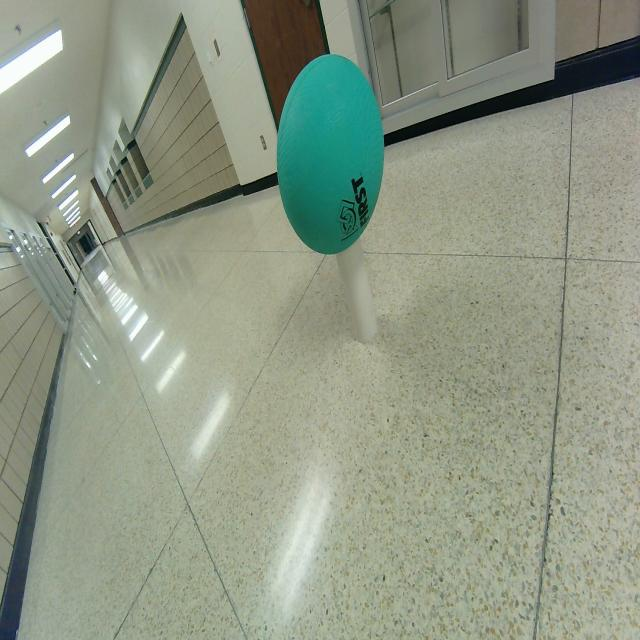algae: (277, 55, 384, 254)
coral: (335, 240, 377, 343)
